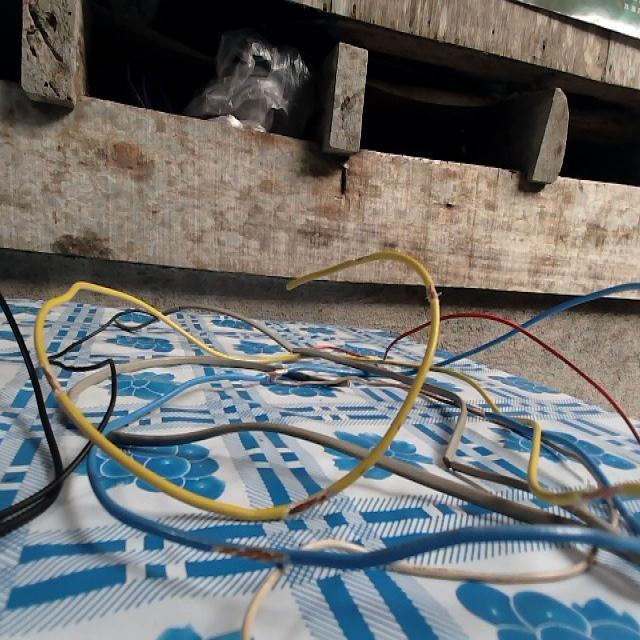-: (209, 540, 294, 569), (284, 487, 332, 517), (581, 478, 626, 506), (39, 360, 62, 395), (264, 364, 291, 383), (422, 283, 445, 304), (442, 454, 453, 474)
